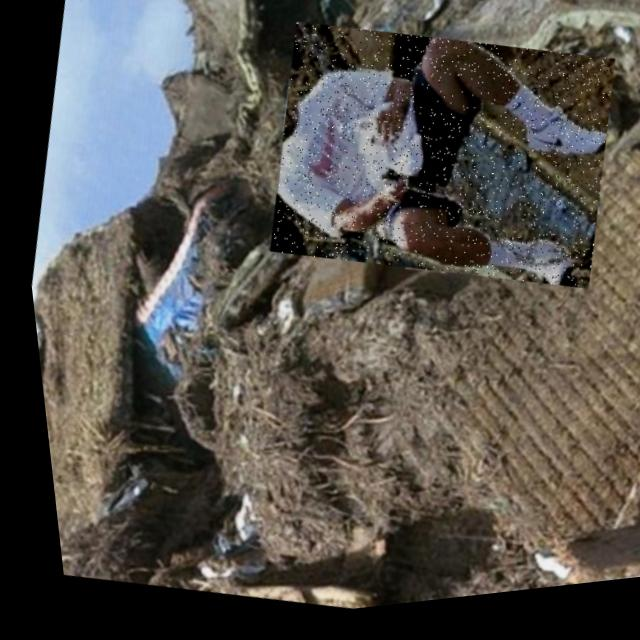Person in Rubble: (243, 0, 632, 328)
